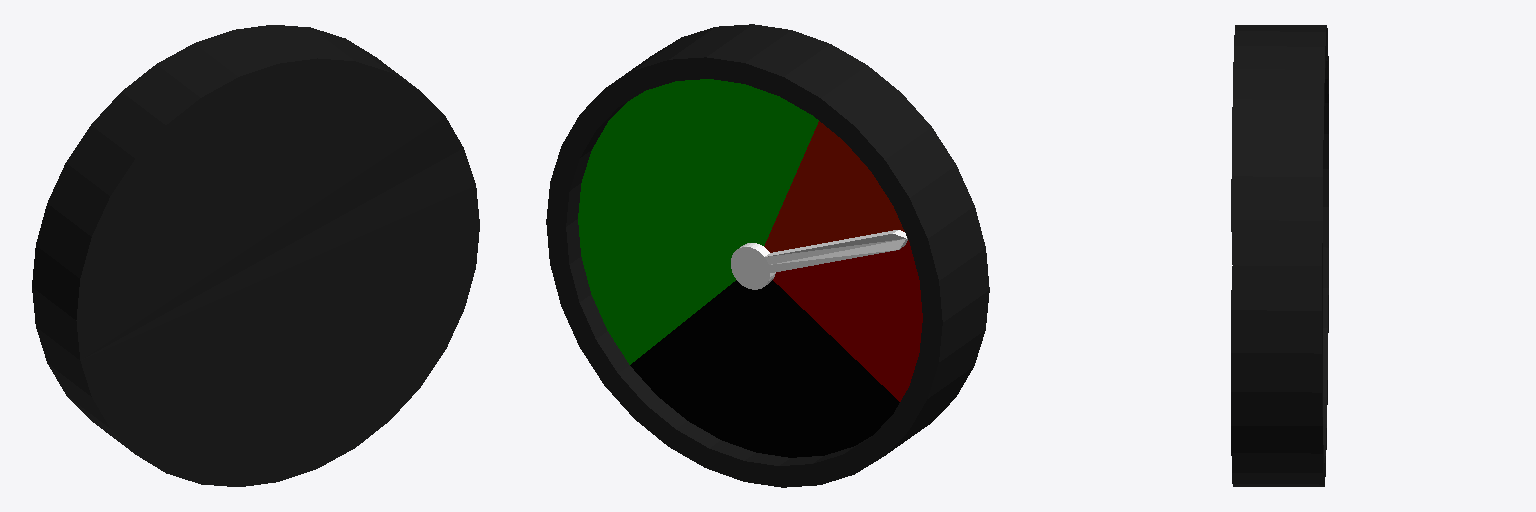
File: speedPowerUp_pickup.obj
3 renders of one model, left to right at view 1: azimuth 30°, elevation 25°; view 2: azimuth 150°, elevation 25°; view 3: azimuth 270°, elevation 25°, orthographic.
Parts seen in each view (by area): view 1: Mesh; view 2: Mesh; view 3: Mesh.
Part boxes in pixels (bbox=[...]): Mesh: bbox=[32, 25, 479, 486]; Mesh: bbox=[546, 24, 989, 487]; Mesh: bbox=[1231, 25, 1328, 486].
Bounding box in the file's own units: 2.01 × 2 × 0.4269.